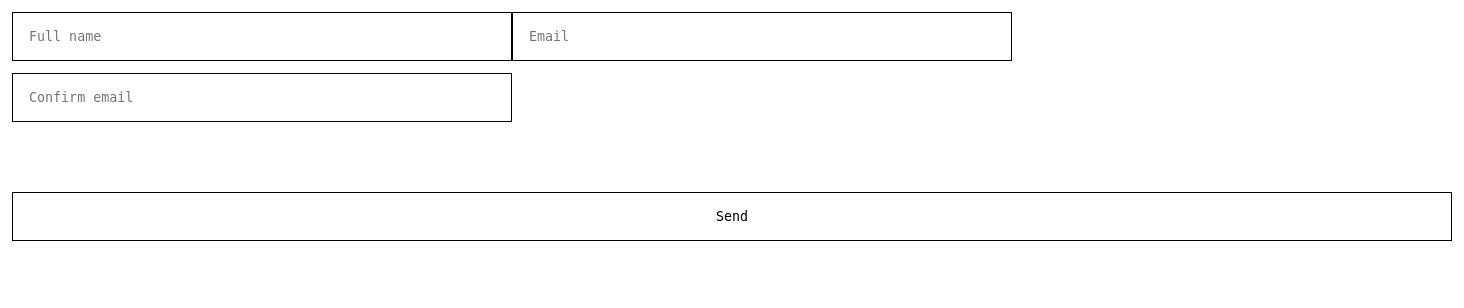
Test case: Invitation Form › should send an Invitation unsuccessfully due to server error
The width and height of the screenshot is (1464, 308).
Type "Hung Le" into the field with placeholder "Full name".
click(262, 36); type("Hung Le")  # box top-left (12, 12), bottom-right (512, 61)
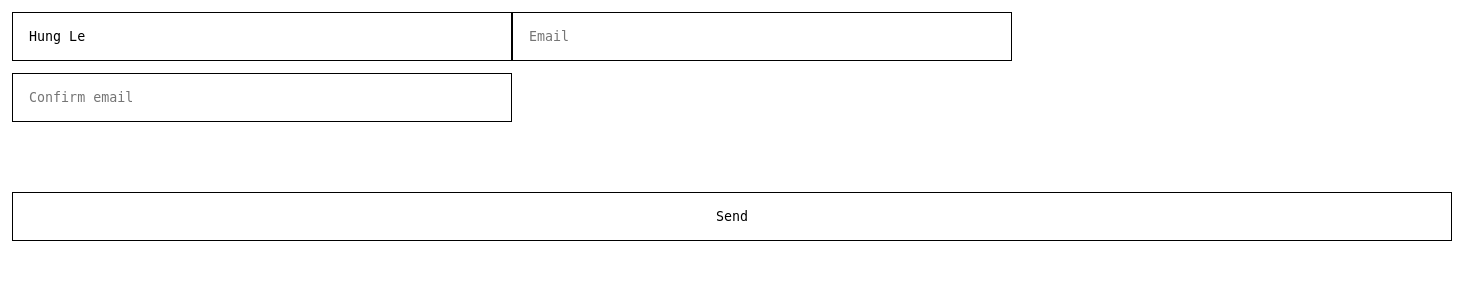
Type "hung@le.com" into the field with placeholder "Email".
click(762, 36); type("hung@le.com")  # box top-left (512, 12), bottom-right (1012, 61)
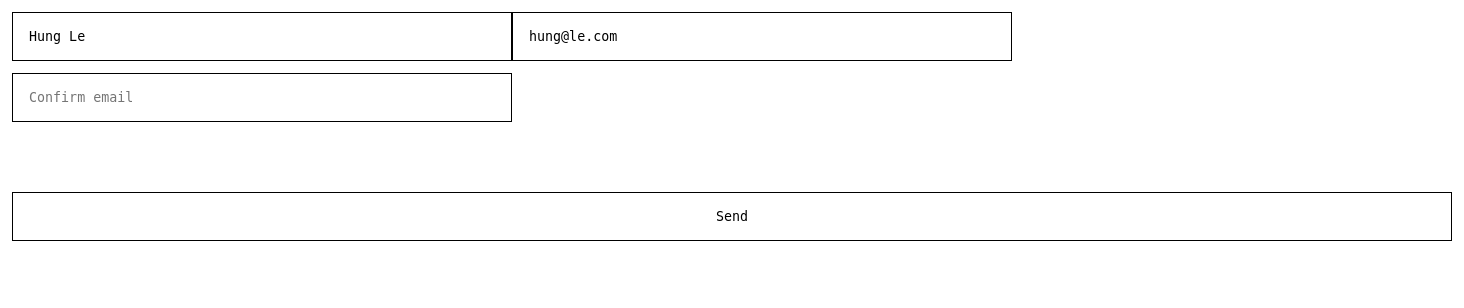
Type "hung@le.com" into the field with placeholder "Confirm email".
click(262, 98); type("hung@le.com")  # box top-left (12, 73), bottom-right (512, 122)
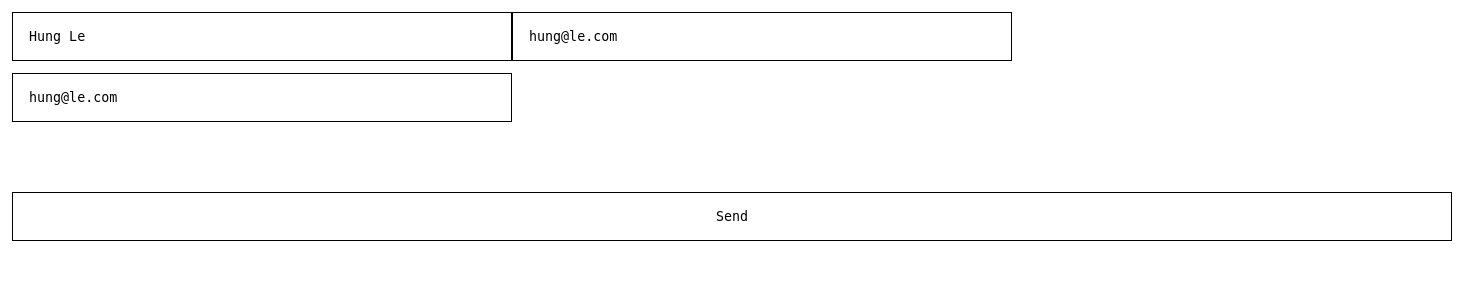
Click the button.
click(732, 216)  # box top-left (12, 192), bottom-right (1452, 241)
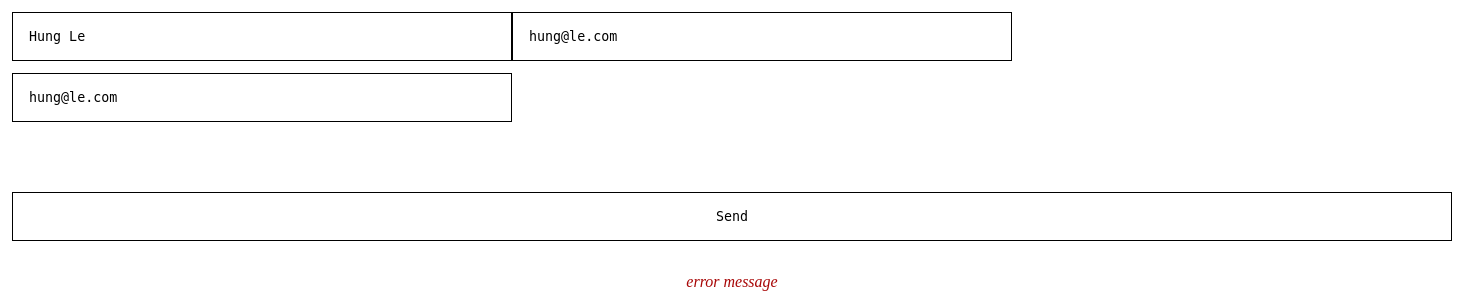
Now the text with id "errorMessage" reads "error message", box top-left (686, 273), bottom-right (778, 290)
